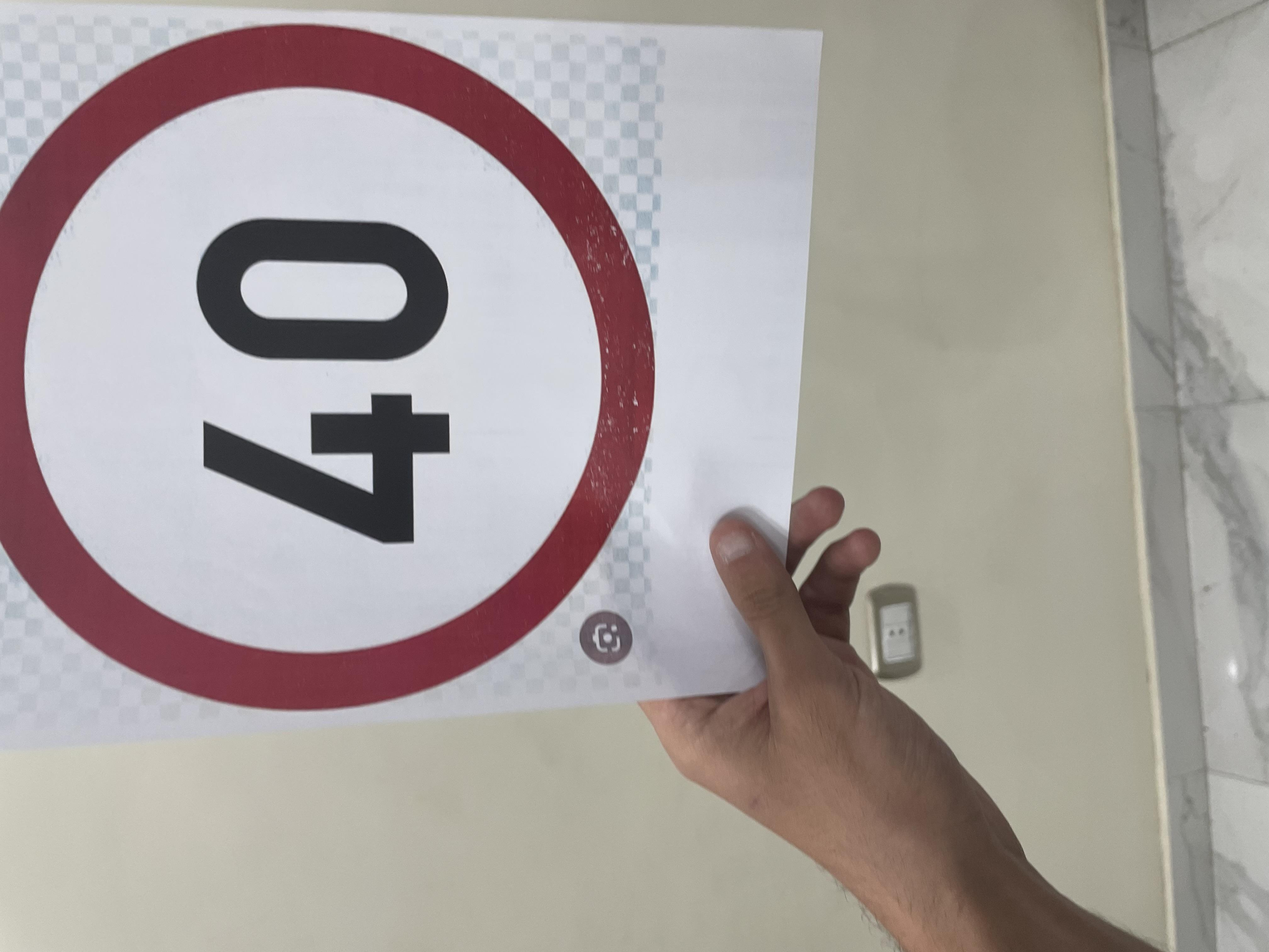40-Speed: (295, 10, 1258, 487)
